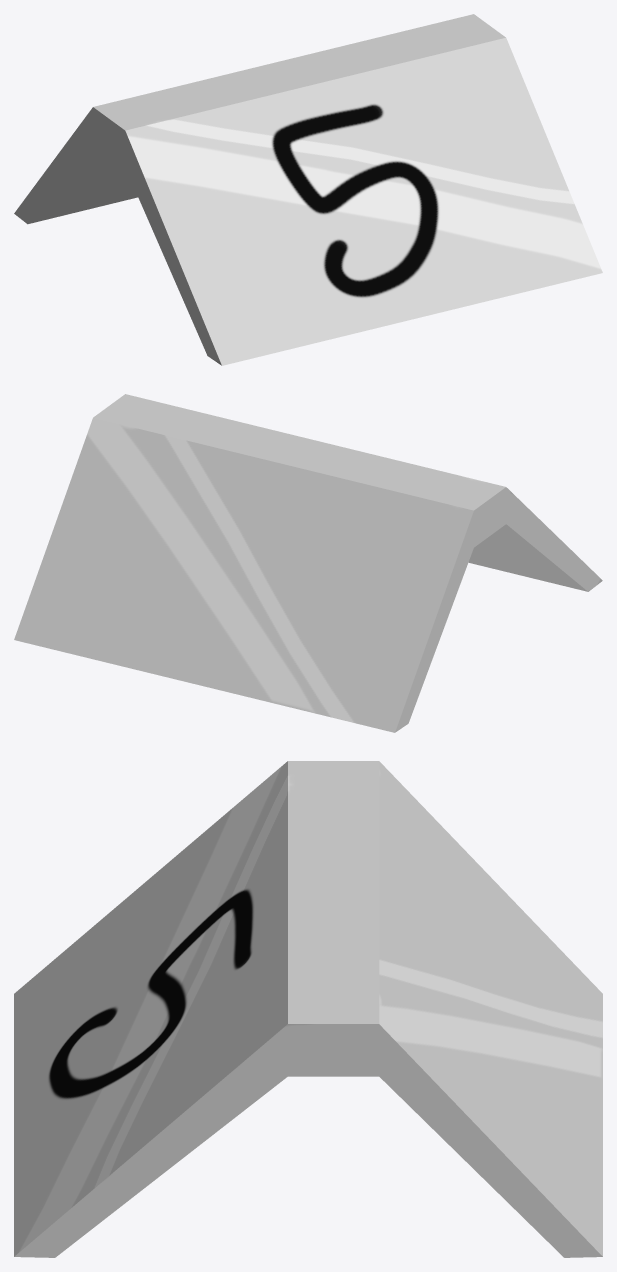
The model's file is MFC number card 5.fbx.
3 views of the same model, one above another, from view 1: azimuth 30°, elevation 25°; view 2: azimuth 150°, elevation 25°; view 3: azimuth 270°, elevation 25° (orthographic). The views are drawn at different scales.
Parts seen in each view (by area): view 1: Cube; view 2: Cube; view 3: Cube.
Part boxes in pixels (bbox=[...]): Cube: bbox=[14, 14, 602, 365]; Cube: bbox=[14, 394, 602, 732]; Cube: bbox=[14, 761, 602, 1257].
Bounding box in the file's own units: 104 × 43.05 × 98.27.
